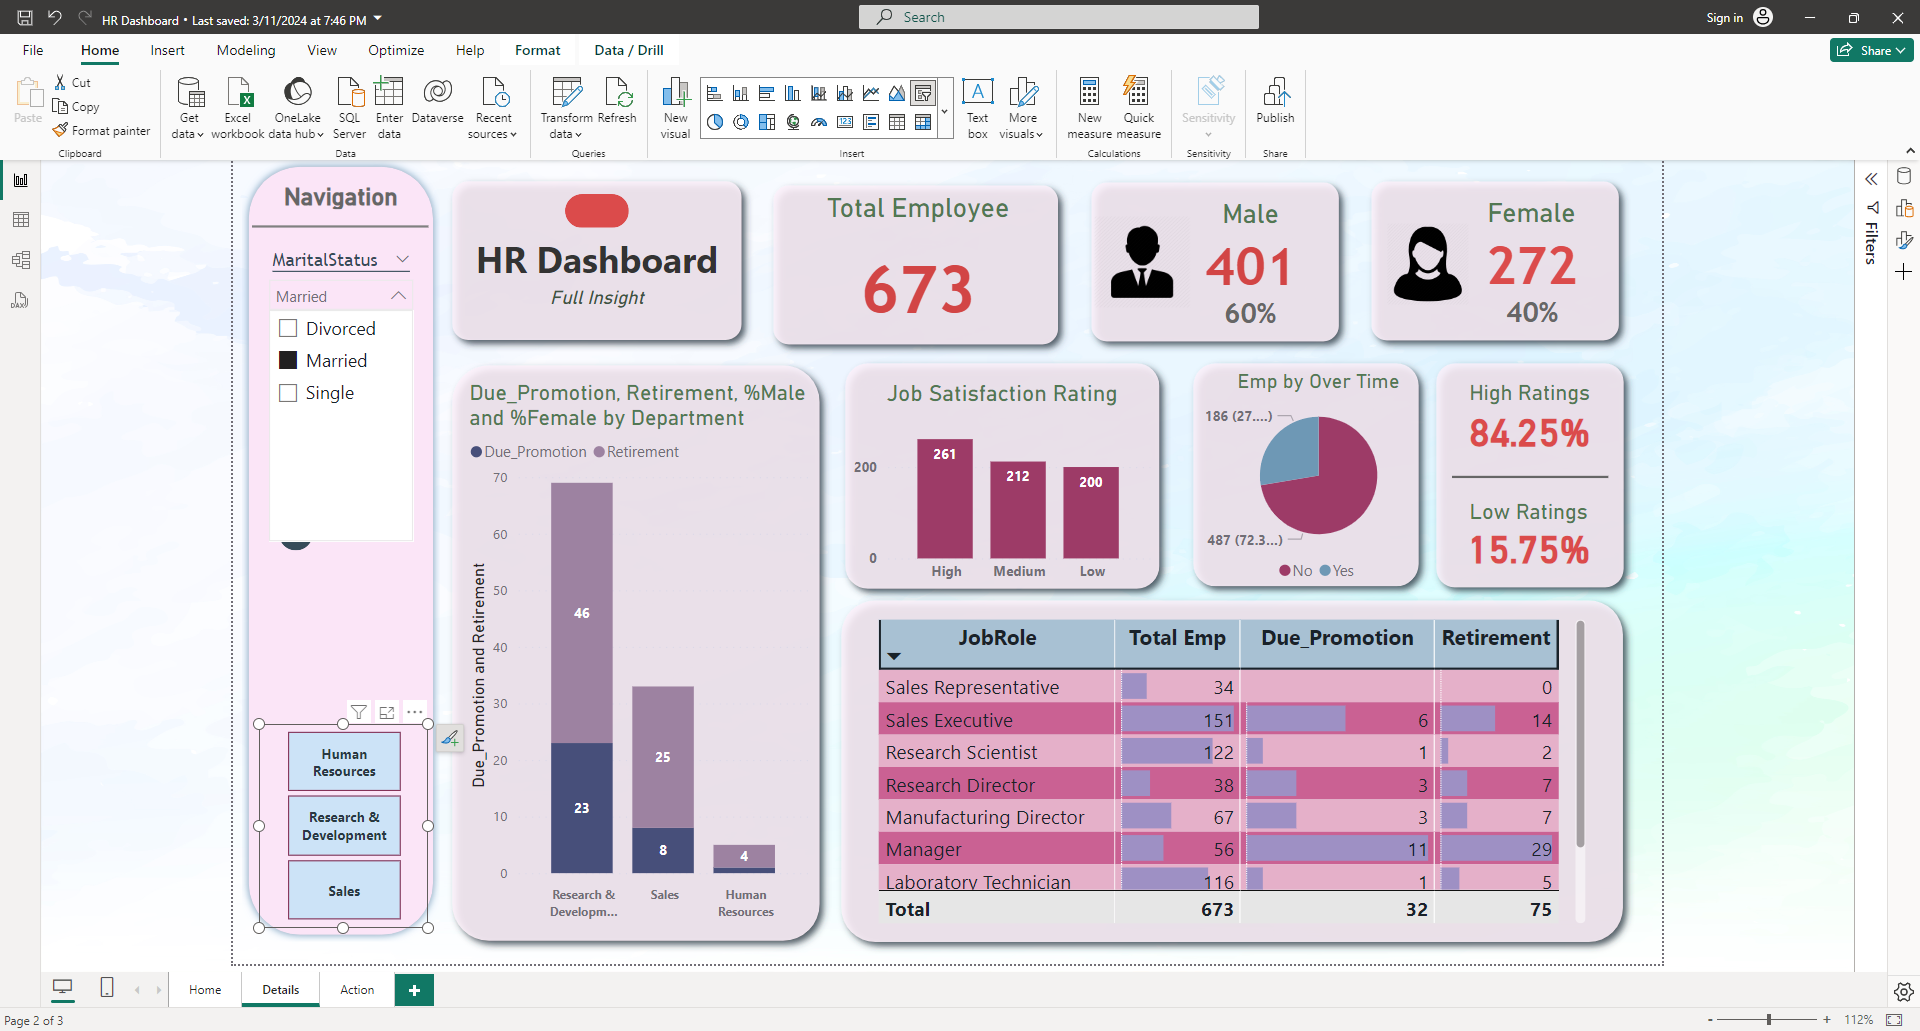

This screenshot's page, from the dashboard's own definition file:
{"tool":"powerbi","page":{"name":"Details","canvas":[1280,720],"ordinal":1},"visuals":[{"type":"shape","box":[8.3,0,177.1,699.9],"z":0,"group":"g5"},{"type":"group","id":"g1","title":"Group 2","box":[185.4,8.3,280.2,164.6],"z":0},{"type":"shape","box":[185.4,8.3,281.1,164.1],"z":0,"group":"g1"},{"type":"shape","box":[1008.2,8.3,243.7,164.6],"z":0,"group":"g4"},{"type":"shape","box":[757.2,9.4,243.7,164.6],"z":0,"group":"g3"},{"type":"shape","box":[472.8,11.5,277,164.6],"z":0,"group":"g2"},{"type":"shape","box":[537,171,303.2,223.8],"z":0,"group":"g7"},{"type":"shape","box":[1067,171,189.8,222.8],"z":0,"group":"g11"},{"type":"shape","box":[848.9,171.2,223.8,221.8],"z":0,"group":"g9"},{"type":"shape","box":[185.4,172.9,351,537.4],"z":0,"group":"g6"},{"type":"shape","box":[534,383,722,328],"z":0,"group":"g15"},{"type":"group","id":"g2","title":"Group 3","box":[472.8,11.5,277,164.6],"z":1000},{"type":"card","title":"Total Employee","fields":{"Values":["HR Analytics Data.Total Emp"]},"box":[485.3,28.2,256.2,138.5],"z":1000,"group":"g2"},{"type":"card","title":"Female","fields":{"Values":["HR Analytics Data.Total female_Emp"]},"box":[1092.6,33.3,140.6,89.6],"z":1000,"group":"g4"},{"type":"card","title":"Male","fields":{"Values":["HR Analytics Data.Total Male_Emp"]},"box":[840.5,34.4,140.6,89.6],"z":1000,"group":"g3"},{"type":"textbox","box":[197.4,60.8,257.9,55.5],"z":1000,"group":"g1"},{"type":"slicer","fields":{"Values":["HR Analytics Data.Department"]},"box":[23.9,505.1,151,182.3],"z":1000,"group":"g5"},{"type":"group","id":"g3","title":"Group 4","box":[757.2,9.4,243.7,164.6],"z":2000},{"type":"shape","box":[17.7,50,158.3,18.7],"z":2000,"group":"g5"},{"type":"image","box":[1028,50,84.4,86.4],"z":2000,"group":"g4"},{"type":"textbox","box":[197.4,108.2,257.9,28.7],"z":2000,"group":"g1"},{"type":"card","title":"Total Employee","fields":{"Values":["HR Analytics Data.%Male"]},"box":[848.9,116.7,123.9,41.7],"z":2000,"group":"g3"},{"type":"group","id":"g4","title":"Group 5","box":[1008.2,8.3,243.7,164.6],"z":3000},{"type":"shape","box":[297.7,30.3,57.3,30.4],"z":3000,"group":"g1"},{"type":"image","box":[765.5,44.8,96.9,92.7],"z":3000,"group":"g3"},{"type":"card","title":"Total Employee","fields":{"Values":["HR Analytics Data.%Female"]},"box":[1100.9,115.6,123.9,41.7],"z":3000,"group":"g4"},{"type":"actionButton","box":[34.3,230.2,131.2,39.6],"z":3000,"group":"g5"},{"type":"group","id":"g5","title":"Group 11","box":[8.3,0,177.1,699.9],"z":4000},{"type":"group","id":"g6","title":"Group 1","box":[185.4,172.9,351,537.4],"z":4000,"group":"g8"},{"type":"actionButton","box":[34.3,272.9,131.2,39.6],"z":4000,"group":"g5"},{"type":"group","id":"g7","title":"Group 8","box":[537,171,303.2,223.8],"z":5000,"group":"g10"},{"type":"group","id":"g8","title":"Group 6","box":[185.4,172.9,351,537.4],"z":5000},{"type":"actionButton","box":[34.3,315.6,131.2,39.6],"z":5000,"group":"g5"},{"type":"slicer","fields":{"Values":["HR Analytics Data.MaritalStatus"]},"box":[22.7,75.3,148.5,60.9],"z":6000},{"type":"group","id":"g9","title":"Group 9","box":[848.9,171.2,223.8,221.8],"z":6000,"group":"g12"},{"type":"shape","box":[41.6,235.4,30.2,29.2],"z":6000,"group":"g5"},{"type":"group","id":"g10","title":"Group 7","box":[537,171,303.2,223.8],"z":7000},{"type":"group","id":"g11","title":"Group 10","box":[1067,171,189.8,222.8],"z":7000,"group":"g13"},{"type":"shape","box":[41.6,278.1,30.2,29.2],"z":7000,"group":"g5"},{"type":"group","id":"g12","title":"Group 12","box":[848.9,171.2,246.5,221.8],"z":8000},{"type":"shape","box":[41.6,320.8,30.2,29.2],"z":8000,"group":"g5"},{"type":"group","id":"g13","title":"Group 13","box":[1067,171,189.8,222.8],"z":9000},{"type":"columnChart","fields":{"Category":["HR Analytics Data.Department"],"Y":["HR Analytics Data.Due_Promotion","HR Analytics Data.Retirement"]},"box":[207.3,197,315.6,491],"z":9000,"group":"g8"},{"type":"columnChart","title":"Job Satisfaction Rating","fields":{"Y":["HR Analytics Data.Total Emp"],"Category":["HR Analytics Data.Job Satisfection Rating"]},"box":[550.8,197,276.4,189.8],"z":10000,"group":"g10"},{"type":"group","id":"g14","title":"Group 14","box":[534,383,722,328],"z":10000},{"type":"pieChart","title":"Emp by Over Time","fields":{"Y":["HR Analytics Data.Total Emp"],"Category":["HR Analytics Data.OverTime"]},"box":[848.9,187.7,246.5,199.1],"z":11000,"group":"g12"},{"type":"group","id":"g15","title":"Group 10","box":[534,383,722,328],"z":12000,"group":"g14"},{"type":"tableEx","fields":{"Values":["HR Analytics Data.JobRole","HR Analytics Data.Total Emp","HR Analytics Data.Due_Promotion","HR Analytics Data.Retirement"]},"box":[572.4,406.4,643.6,281.6],"z":13000,"group":"g14"},{"type":"card","title":"High Ratings","fields":{"Values":["HR Analytics Data.%high_rating"]},"box":[1079.9,197,164,67],"z":14000,"group":"g13"},{"type":"card","title":"Low Ratings","fields":{"Values":["HR Analytics Data.%low_rating"]},"box":[1078.9,303.2,164,62.9],"z":15000,"group":"g13"},{"type":"shape","box":[1092.3,274.4,140.3,19.6],"z":16000,"group":"g13"}]}

Visuals, with their boxes on the page's 1280x720 design canvas (x1, y1, x2, y2). These are canvas units, not pixel positions in the 1920x1031 screenshot, which may show the page scaled, cropped or inside an application window:
shape: l=8, t=0, r=185, b=700
"Group 2" group: l=185, t=8, r=466, b=173
shape: l=185, t=8, r=466, b=172
shape: l=1008, t=8, r=1252, b=173
shape: l=757, t=9, r=1001, b=174
shape: l=473, t=12, r=750, b=176
shape: l=537, t=171, r=840, b=395
shape: l=1067, t=171, r=1257, b=394
shape: l=849, t=171, r=1073, b=393
shape: l=185, t=173, r=536, b=710
shape: l=534, t=383, r=1256, b=711
"Group 3" group: l=473, t=12, r=750, b=176
"Total Employee" card: l=485, t=28, r=742, b=167
"Female" card: l=1093, t=33, r=1233, b=123
"Male" card: l=840, t=34, r=981, b=124
textbox: l=197, t=61, r=455, b=116
slicer - HR Analytics Data.Department: l=24, t=505, r=175, b=687
"Group 4" group: l=757, t=9, r=1001, b=174
shape: l=18, t=50, r=176, b=69
image: l=1028, t=50, r=1112, b=136
textbox: l=197, t=108, r=455, b=137
"Total Employee" card: l=849, t=117, r=973, b=158
"Group 5" group: l=1008, t=8, r=1252, b=173
shape: l=298, t=30, r=355, b=61
image: l=766, t=45, r=862, b=138
"Total Employee" card: l=1101, t=116, r=1225, b=157
actionButton: l=34, t=230, r=166, b=270
"Group 11" group: l=8, t=0, r=185, b=700
"Group 1" group: l=185, t=173, r=536, b=710
actionButton: l=34, t=273, r=166, b=312
"Group 8" group: l=537, t=171, r=840, b=395
"Group 6" group: l=185, t=173, r=536, b=710
actionButton: l=34, t=316, r=166, b=355
slicer - HR Analytics Data.MaritalStatus: l=23, t=75, r=171, b=136
"Group 9" group: l=849, t=171, r=1073, b=393
shape: l=42, t=235, r=72, b=265
"Group 7" group: l=537, t=171, r=840, b=395
"Group 10" group: l=1067, t=171, r=1257, b=394
shape: l=42, t=278, r=72, b=307
"Group 12" group: l=849, t=171, r=1095, b=393
shape: l=42, t=321, r=72, b=350
"Group 13" group: l=1067, t=171, r=1257, b=394
columnChart - HR Analytics Data.Department x HR Analytics Data.Due_Promotion: l=207, t=197, r=523, b=688
"Job Satisfaction Rating" columnChart: l=551, t=197, r=827, b=387
"Group 14" group: l=534, t=383, r=1256, b=711
"Emp by Over Time" pieChart: l=849, t=188, r=1095, b=387
"Group 10" group: l=534, t=383, r=1256, b=711
tableEx - HR Analytics Data.JobRole x HR Analytics Data.Total Emp: l=572, t=406, r=1216, b=688
"High Ratings" card: l=1080, t=197, r=1244, b=264
"Low Ratings" card: l=1079, t=303, r=1243, b=366
shape: l=1092, t=274, r=1233, b=294
